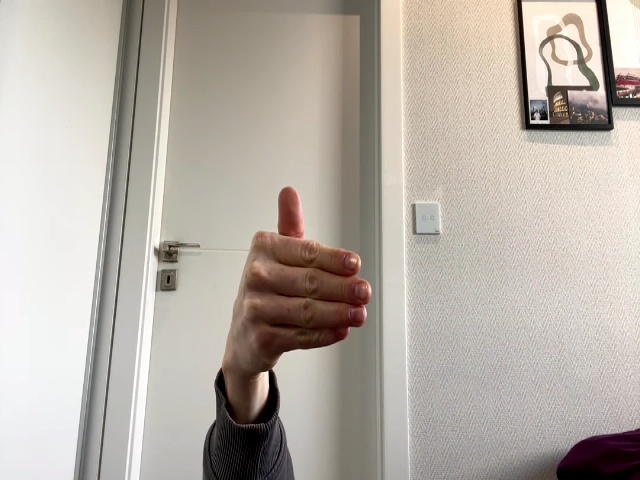M: (229, 187, 372, 376)
